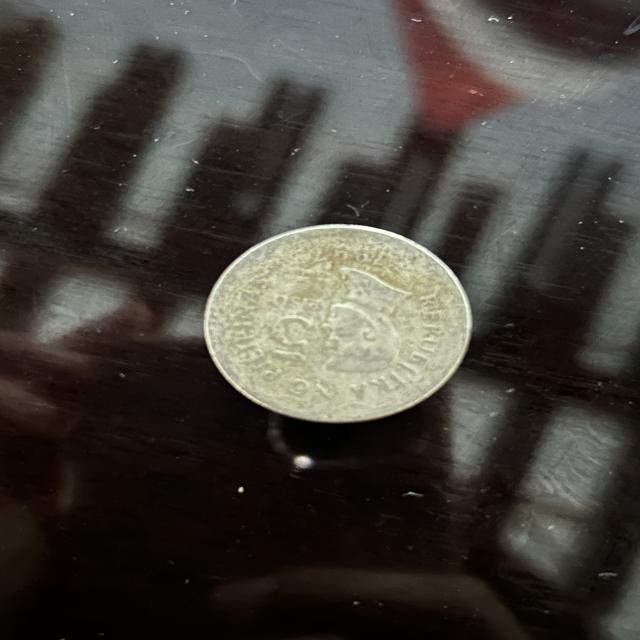5_Old_Front: (208, 221, 470, 428)
